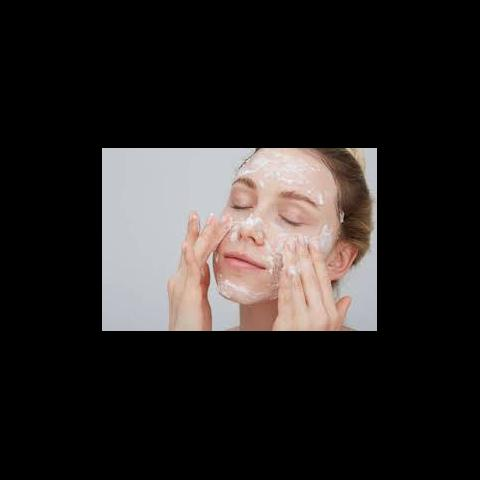closed: (224, 174, 322, 234)
